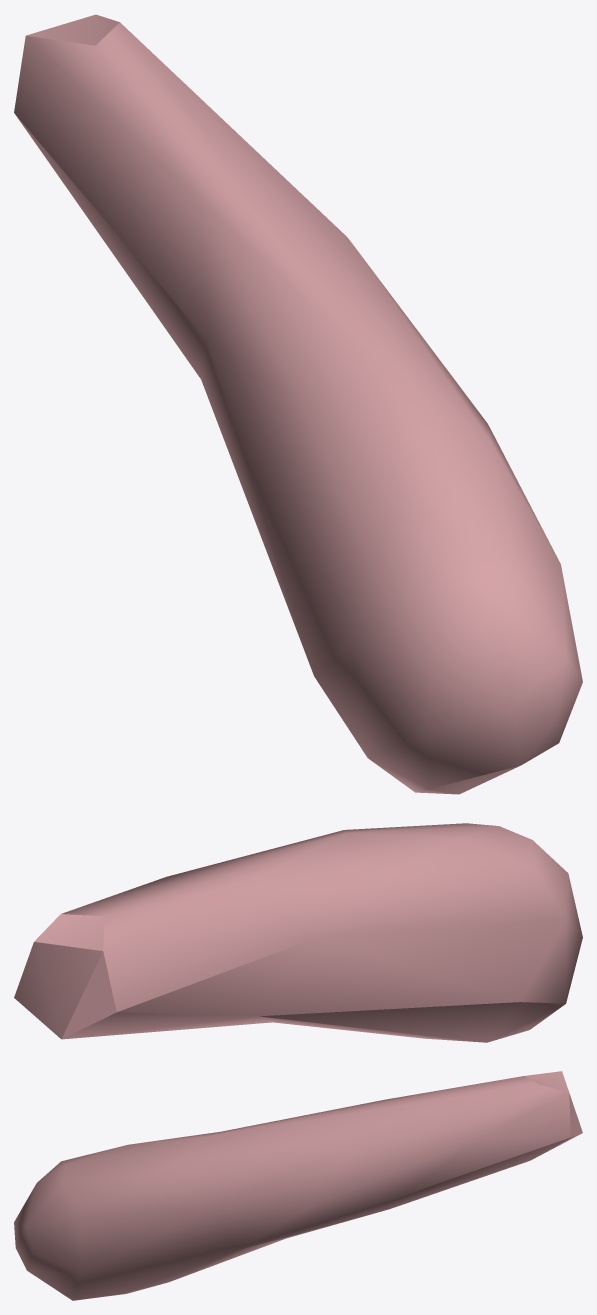
Rendered from fma68224_fj6508.glb.
The picture shows the model from 3 angles, top to bottom: view 1: azimuth 30°, elevation 25°; view 2: azimuth 150°, elevation 25°; view 3: azimuth 270°, elevation 25°; orthographic projection. The views are drawn at different scales.
Parts seen in each view (by area): view 1: FMA68224_FJ6508; view 2: FMA68224_FJ6508; view 3: FMA68224_FJ6508.
Part boxes in pixels (x1,y1,x2,y2): FMA68224_FJ6508: (14,14,582,794); FMA68224_FJ6508: (14,823,582,1042); FMA68224_FJ6508: (14,1071,582,1300).
Size of the model in its own units: 0.00217 by 0.00343 by 0.00758.
